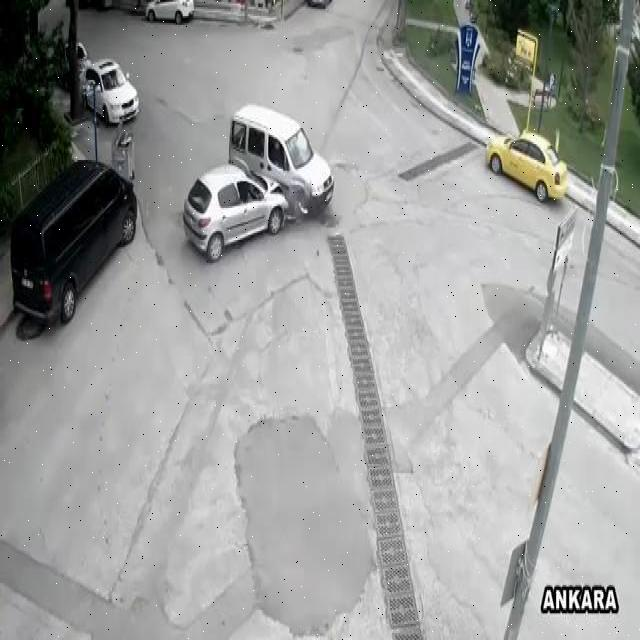moderate: (178, 99, 334, 264)
